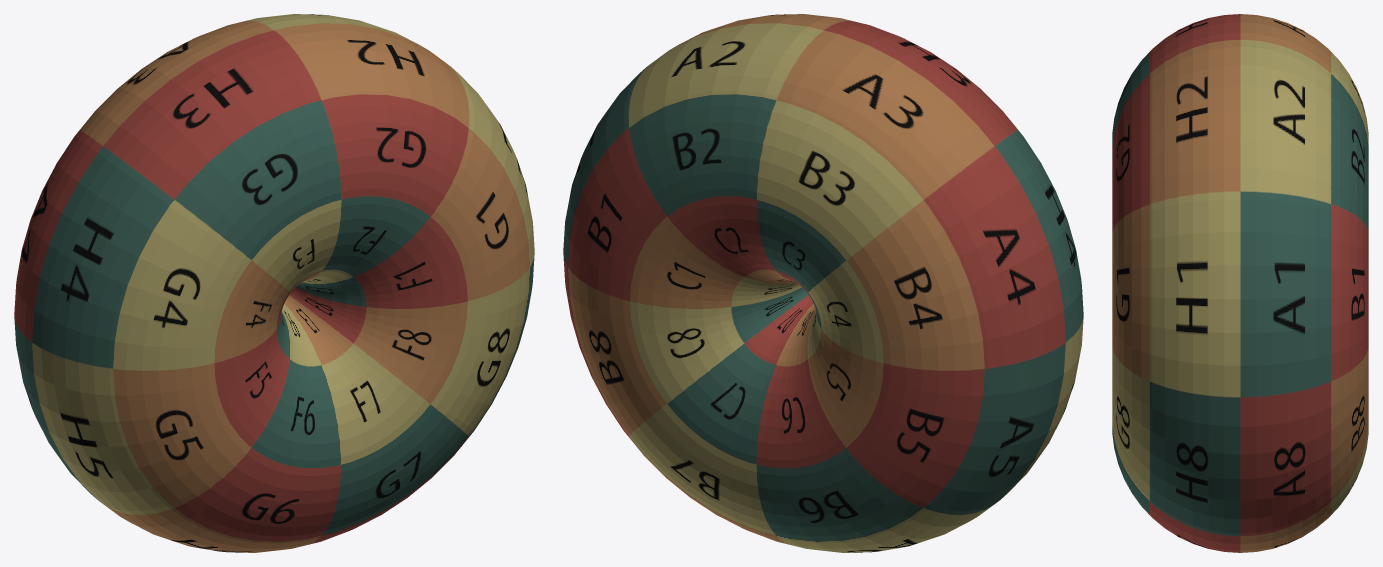
The model's file is texture_torus_R1_r29.glb.
3 views of the same model, side by side, from view 1: azimuth 30°, elevation 25°; view 2: azimuth 150°, elevation 25°; view 3: azimuth 270°, elevation 25° (orthographic). The views are drawn at different scales.
Parts seen in each view (by area): view 1: world; view 2: world; view 3: world.
Boxes of the visible parts, x1=… form: world: x1=14, y1=14, x2=534, y2=552; world: x1=563, y1=14, x2=1083, y2=552; world: x1=1112, y1=14, x2=1368, y2=552.
Bounding box in the file's own units: 20.4 × 20.36 × 9.71.
1 material, 1 textured.
